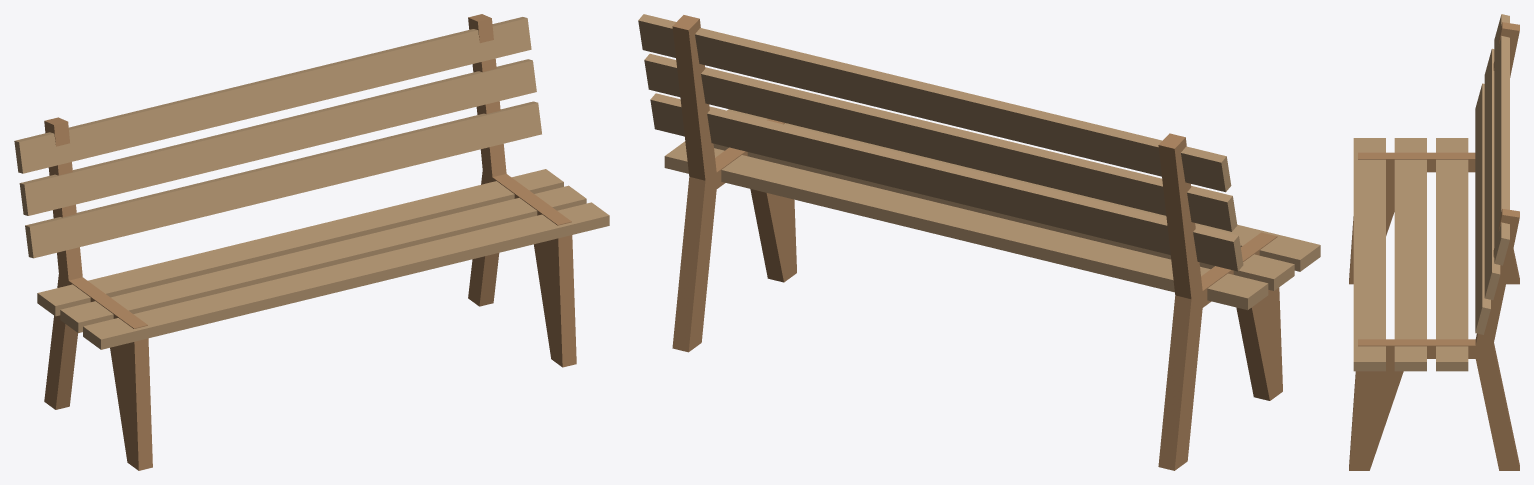
The model's file is bench.glb.
3 renders of one model, left to right at view 1: azimuth 30°, elevation 25°; view 2: azimuth 150°, elevation 25°; view 3: azimuth 270°, elevation 25°, orthographic. The views are drawn at different scales.
Visible parts, largest first — view 1: bench, legs; view 2: bench, legs; view 3: bench, legs.
Boxes of the visible parts, <box> form: bench: <box>14,17,609,349</box>; legs: <box>44,14,576,470</box>; bench: <box>638,14,1320,310</box>; legs: <box>672,15,1282,470</box>; bench: <box>1353,14,1509,371</box>; legs: <box>1349,22,1519,470</box>.
Bounding box in the file's own units: 1.8 × 0.96 × 0.58.
